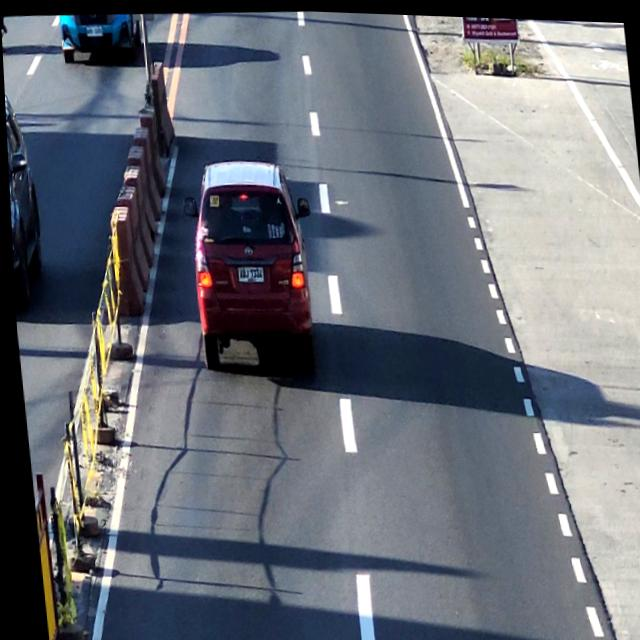Car: (181, 153, 322, 390)
License-Plate: (233, 261, 263, 286)
